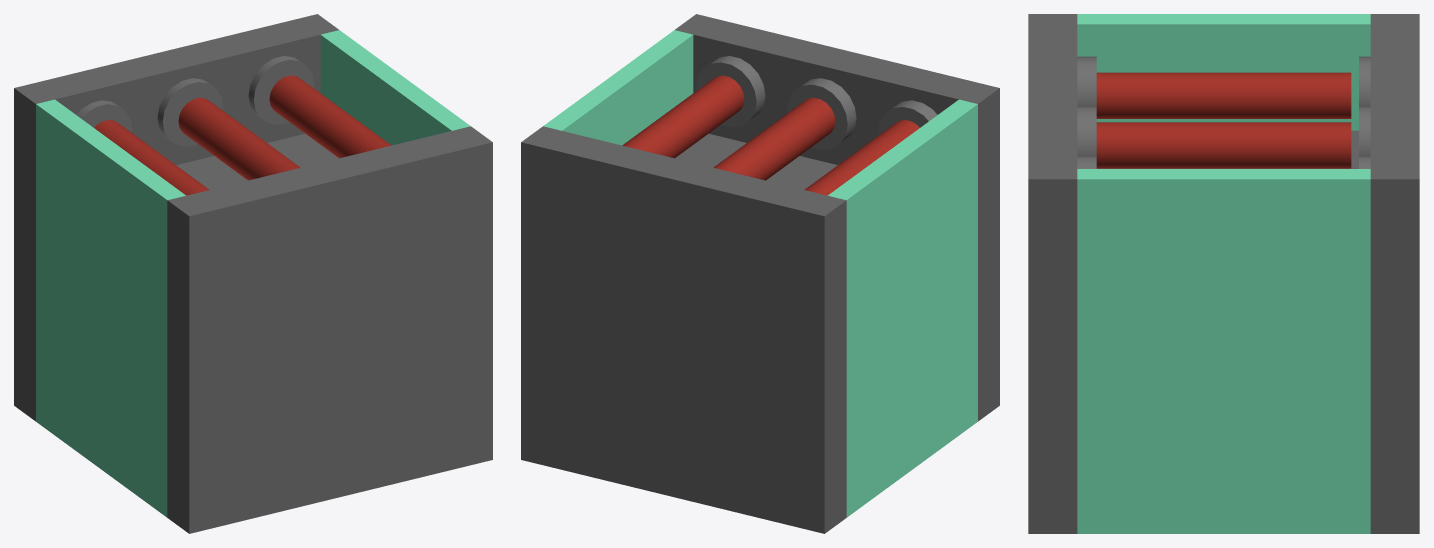
File: LaserTile.fbx
3 views of the same model, side by side, from view 1: azimuth 30°, elevation 25°; view 2: azimuth 150°, elevation 25°; view 3: azimuth 270°, elevation 25° (orthographic). The views are drawn at different scales.
Visible parts, largest first — view 1: LaserTile, Laser, Cylinder001; view 2: LaserTile, Laser, Cylinder001; view 3: LaserTile, Laser, Cylinder001.
Boxes of the visible parts, x1,y1,x2,y2 form: LaserTile: (14, 14, 492, 533); Laser: (94, 75, 391, 195); Cylinder001: (76, 56, 314, 146); LaserTile: (521, 14, 999, 533); Laser: (622, 75, 919, 195); Cylinder001: (696, 56, 937, 149); LaserTile: (1028, 14, 1419, 533); Laser: (1096, 72, 1351, 168); Cylinder001: (1077, 56, 1370, 168).
Size of the model in its own units: 5 by 5 by 5.
